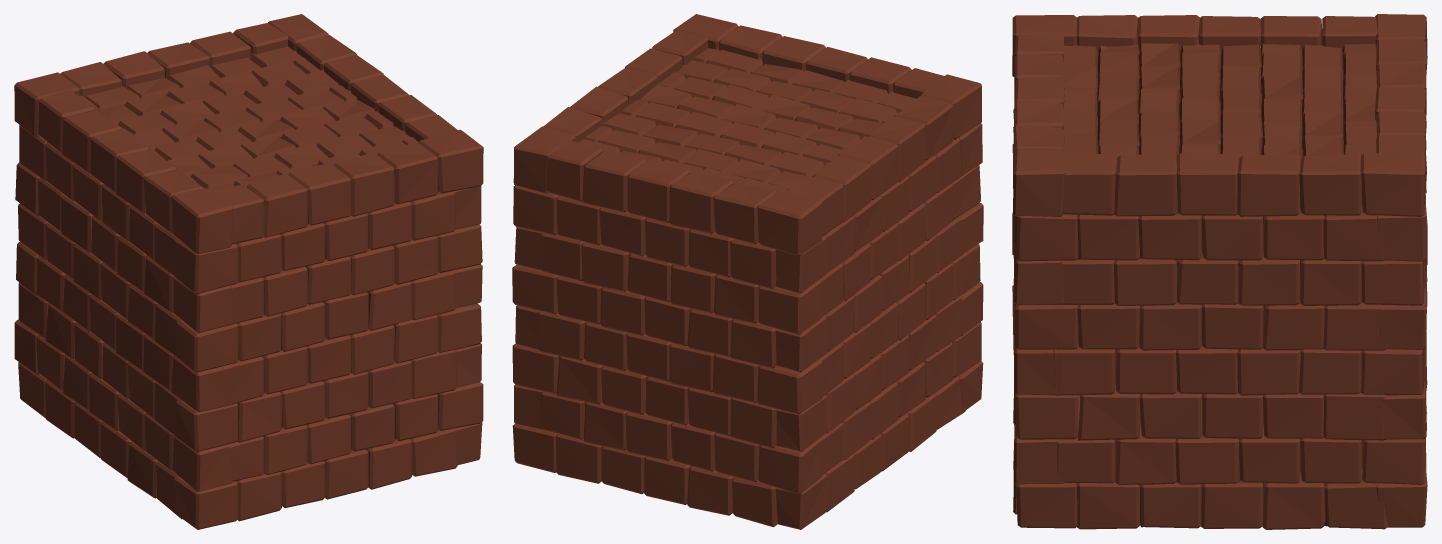
Rendered from Brick.obj.
The picture shows the model from 3 angles, left to right: view 1: azimuth 30°, elevation 25°; view 2: azimuth 150°, elevation 25°; view 3: azimuth 270°, elevation 25°; orthographic projection. The views are drawn at different scales.
Parts seen in each view (by area): view 1: 立方体; view 2: 立方体; view 3: 立方体.
Boxes of the visible parts, box(x1,y1,x2,y2) form: 立方体: box(14, 14, 483, 529); 立方体: box(512, 14, 983, 529); 立方体: box(1012, 14, 1427, 529).
Bounding box in the file's own units: 30.69 × 32.39 × 33.7.
Materials: 1 (1 with a texture image).
